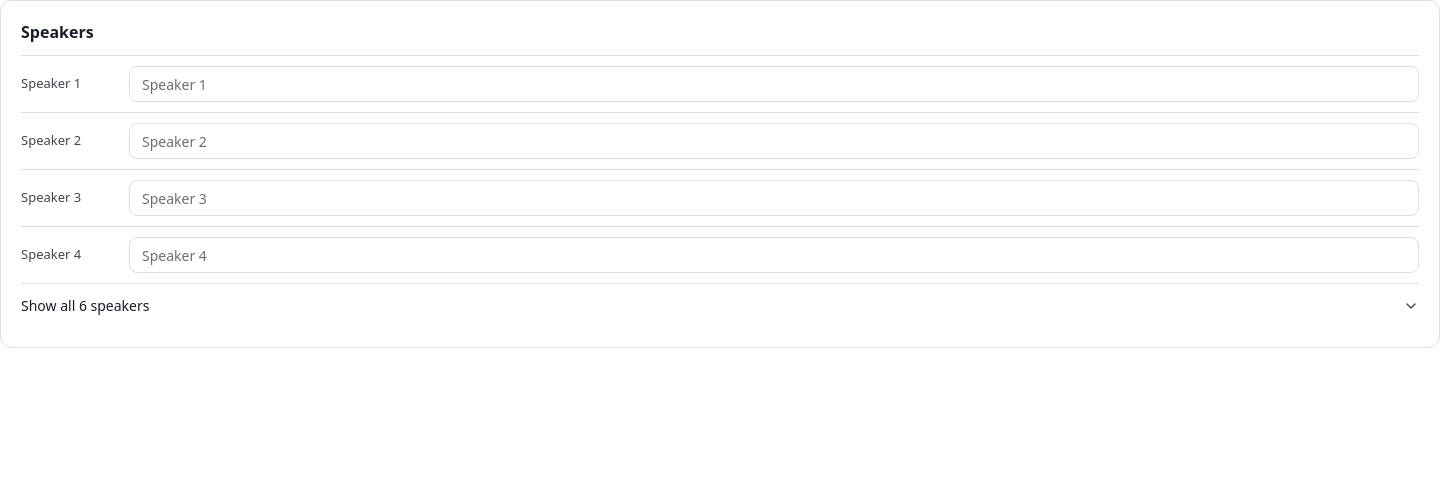
Test: SpeakerEditor › folds the rest behind "Show all" and reveals them on click
This screenshot has width=1440, height=479.
Check: the field labelled "Speaker 4" is shown, box [129, 237, 1419, 273]
Check: the field labelled "Speaker 5" is not shown
Click the button "Show all 6 speakers".
click(85, 305)  # box [21, 283, 1419, 327]
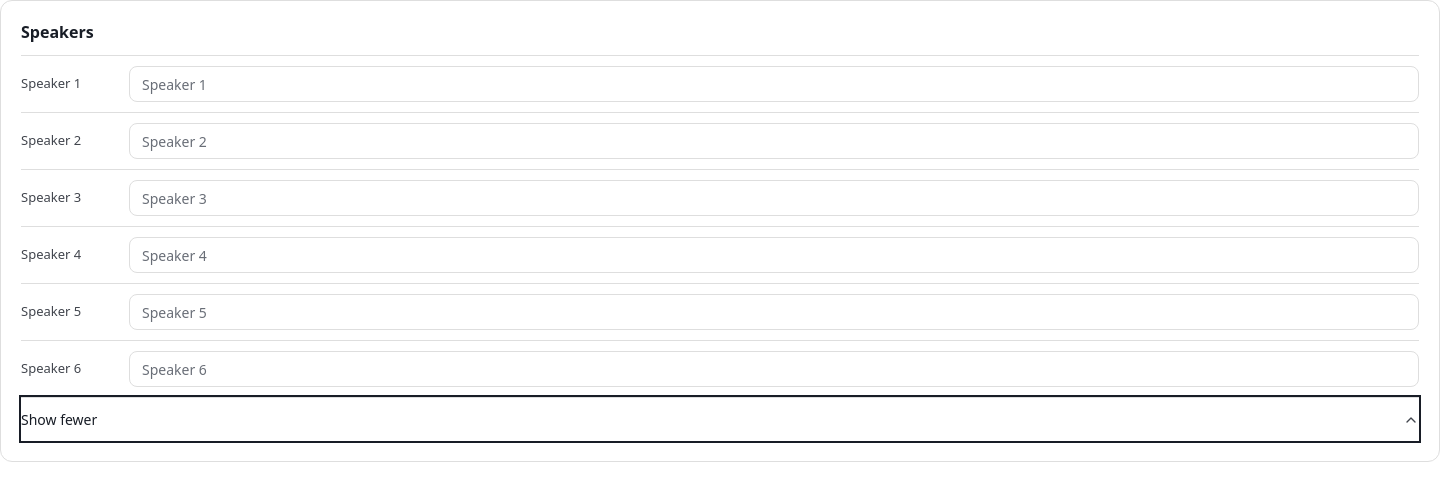
Check: the field labelled "Speaker 5" is shown, box [129, 294, 1419, 330]
Check: the field labelled "Speaker 6" is shown, box [129, 351, 1419, 387]
Check: the button "Show fewer" is expanded
Click the button "Show fewer".
click(59, 419)  # box [21, 397, 1419, 441]
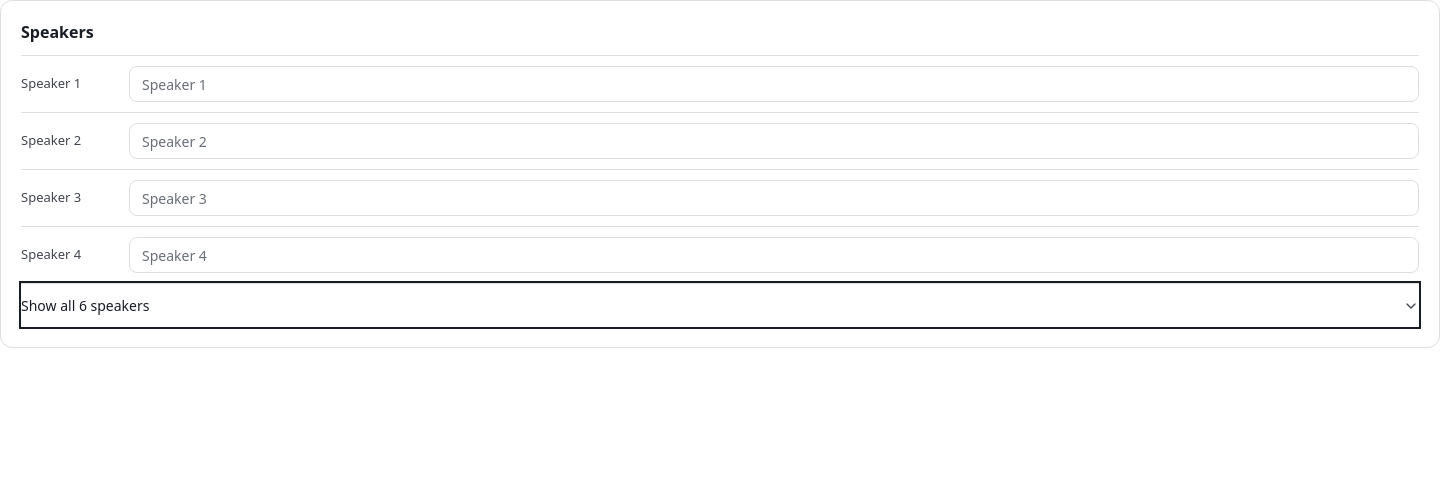
Check: the label labelled "Speaker 5" is gone
